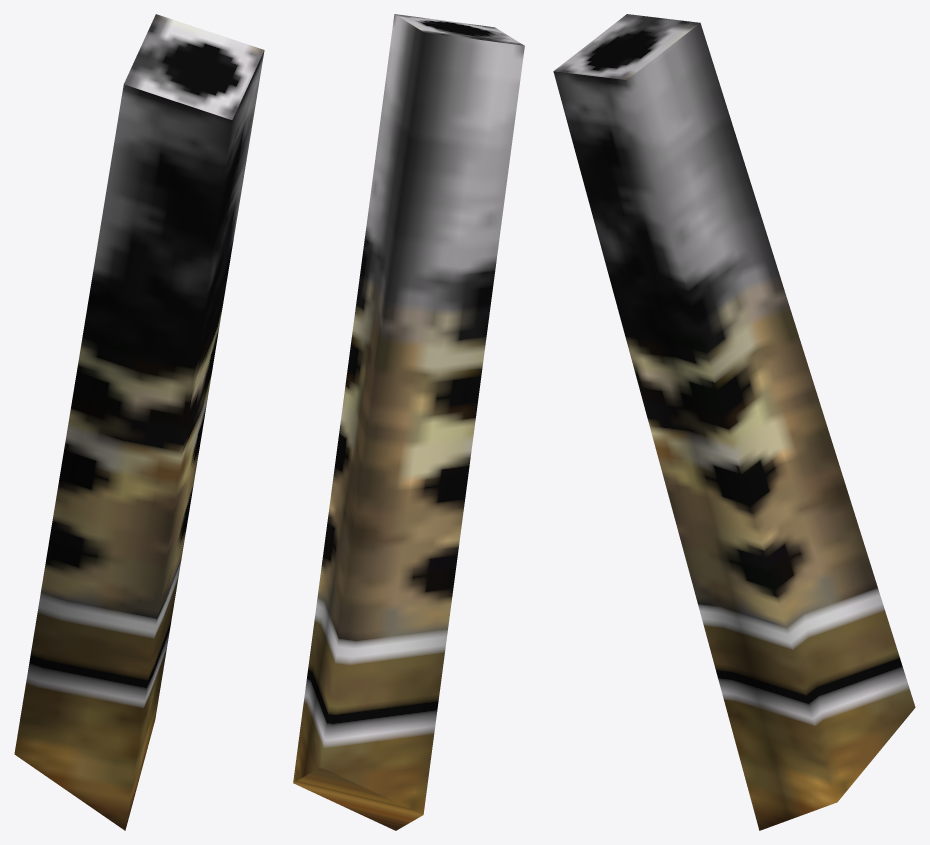
File: GLA - Armor - Marauder Tank - Damage State 3 - UVMarauder_d3.glb
The picture shows the model from 3 angles, left to right: view 1: azimuth 30°, elevation 25°; view 2: azimuth 150°, elevation 25°; view 3: azimuth 270°, elevation 25°; orthographic projection. The views are drawn at different scales.
Parts seen in each view (by area): view 1: UVMARAUDER_D3; view 2: UVMARAUDER_D3; view 3: UVMARAUDER_D3.
Boxes of the visible parts, box(x1,y1,x2,y2) form: UVMARAUDER_D3: box(14, 14, 264, 830); UVMARAUDER_D3: box(293, 14, 524, 830); UVMARAUDER_D3: box(553, 14, 915, 830).
Size of the model in its own units: 1.72 by 9.82 by 3.99.
1 material, 1 textured.
